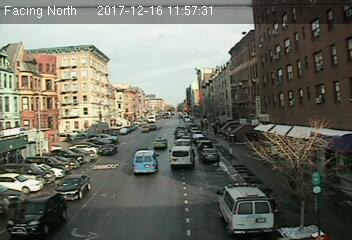car: (7, 191, 67, 237), (55, 173, 92, 203), (169, 145, 196, 171), (132, 150, 159, 175), (200, 146, 220, 162), (99, 143, 118, 156), (152, 137, 168, 149)
police: (219, 180, 276, 236)
